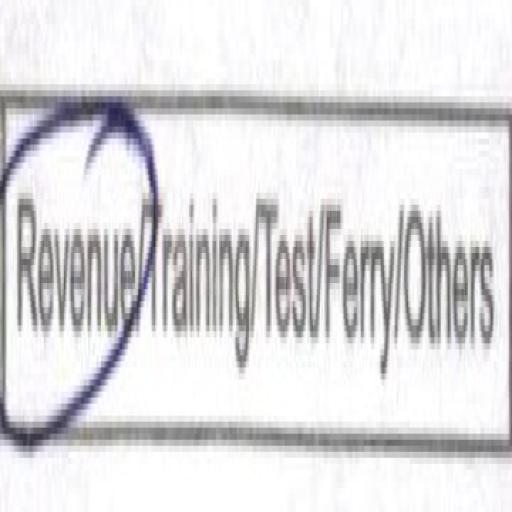check: (0, 8, 153, 512)
